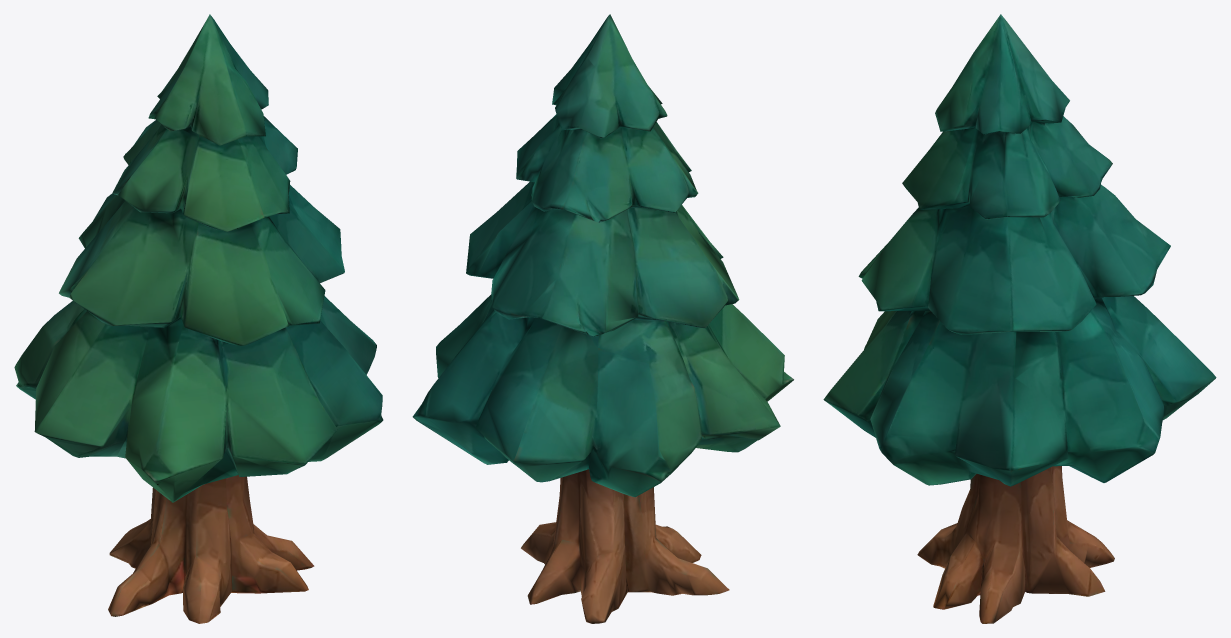
File: tree_autumn_pine.glb
3 renders of one model, left to right at view 1: azimuth 30°, elevation 25°; view 2: azimuth 150°, elevation 25°; view 3: azimuth 270°, elevation 25°, orthographic.
Visible parts, largest first — view 1: BakeLow; view 2: BakeLow; view 3: BakeLow.
Part boxes in pixels (x1=…): BakeLow: x1=14, y1=14, x2=383, y2=623; BakeLow: x1=412, y1=14, x2=793, y2=623; BakeLow: x1=823, y1=14, x2=1216, y2=623.
Bounding box in the file's own units: 0.546 × 0.8577 × 0.5415.
1 material, 1 textured.
